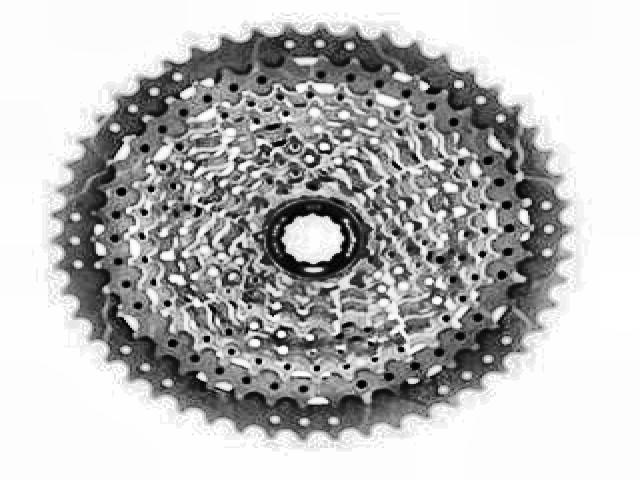cassette: (49, 22, 576, 441)
